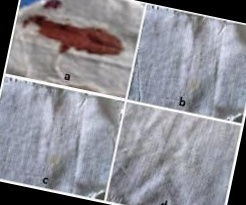blood: (19, 8, 127, 65)
